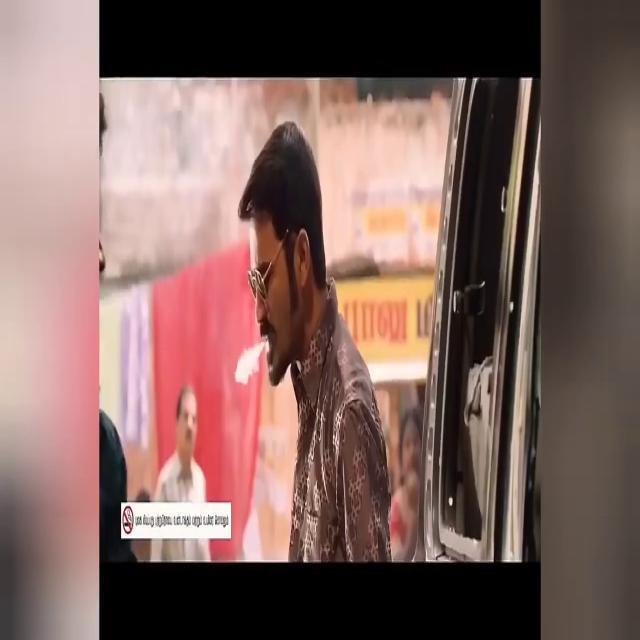smoking: (258, 321, 264, 369)
